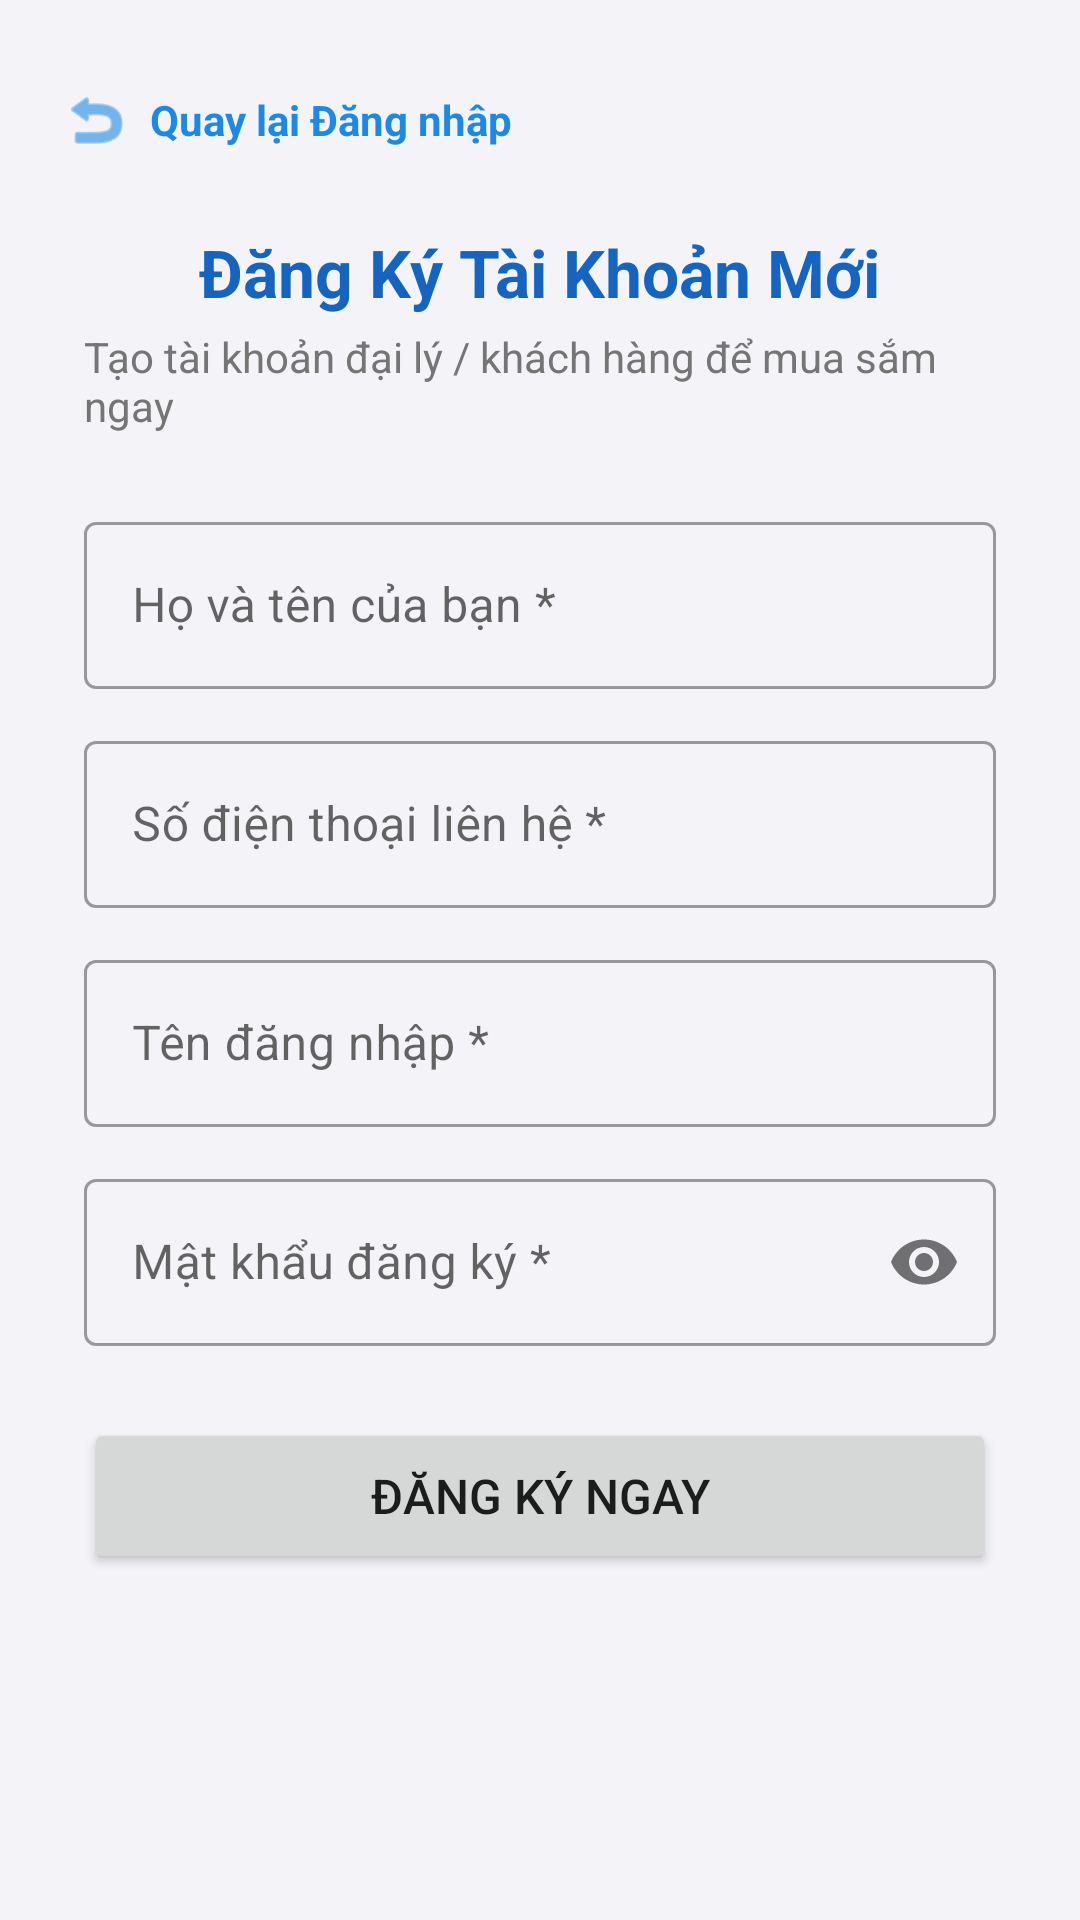

Screen size 1080px x 1920px. Icon name, then its box in pixels as box=[x1, y1, x2, y2]:
revert: box=[71, 97, 123, 144]
